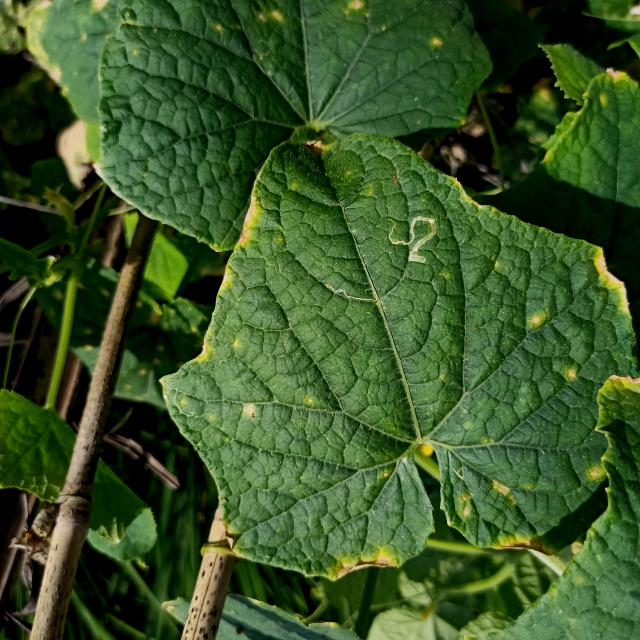disease_cucumber: (449, 476, 515, 520), (194, 333, 242, 362), (562, 365, 582, 384), (528, 311, 546, 329), (245, 402, 258, 419)
